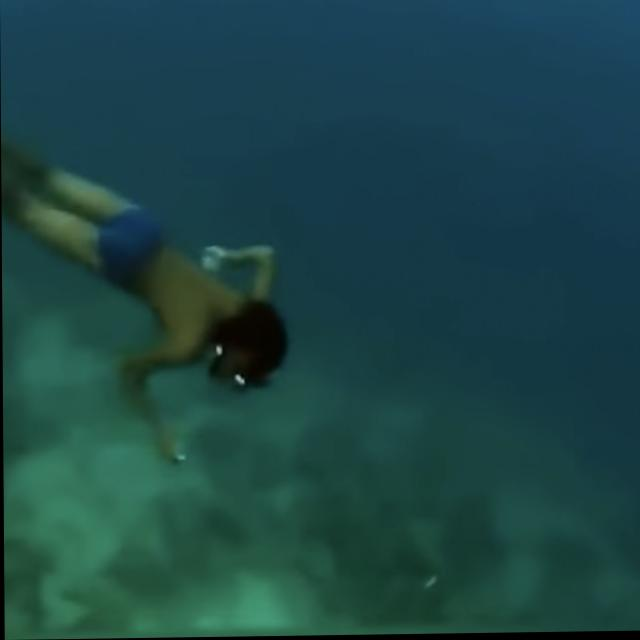human: (0, 63, 302, 476)
